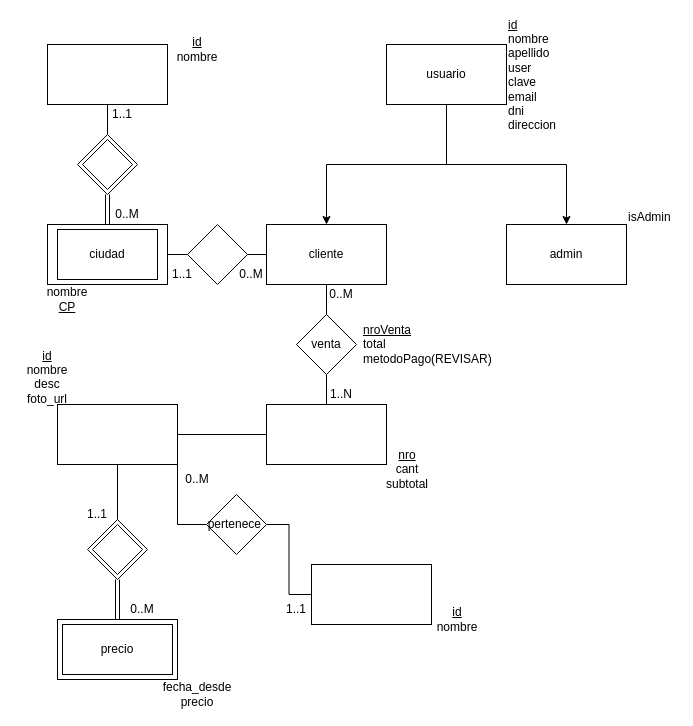
Image size: 693x726. Some labels were removed from this diagram. Each missing label, with the centre of its shape:
categoria: (371,594)
linea_compra: (326,434)
producto: (117,434)
provincia: (107,74)
